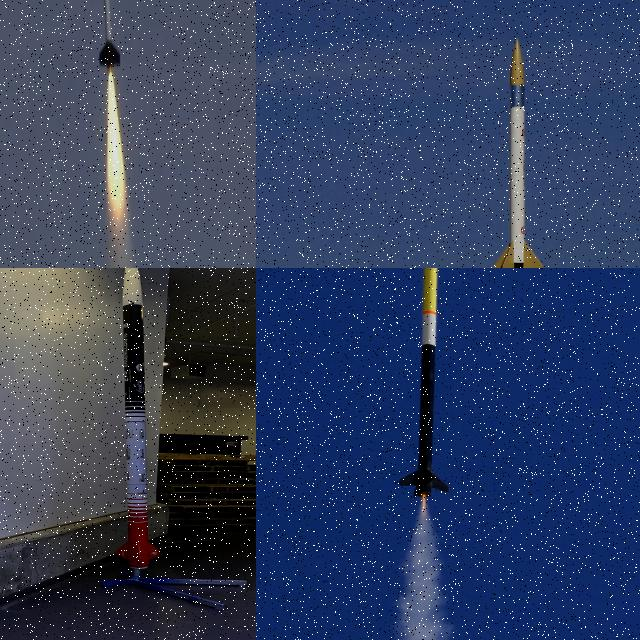Rocket: (116, 268, 160, 569), (491, 37, 546, 268), (401, 268, 451, 497), (98, 0, 120, 78)
